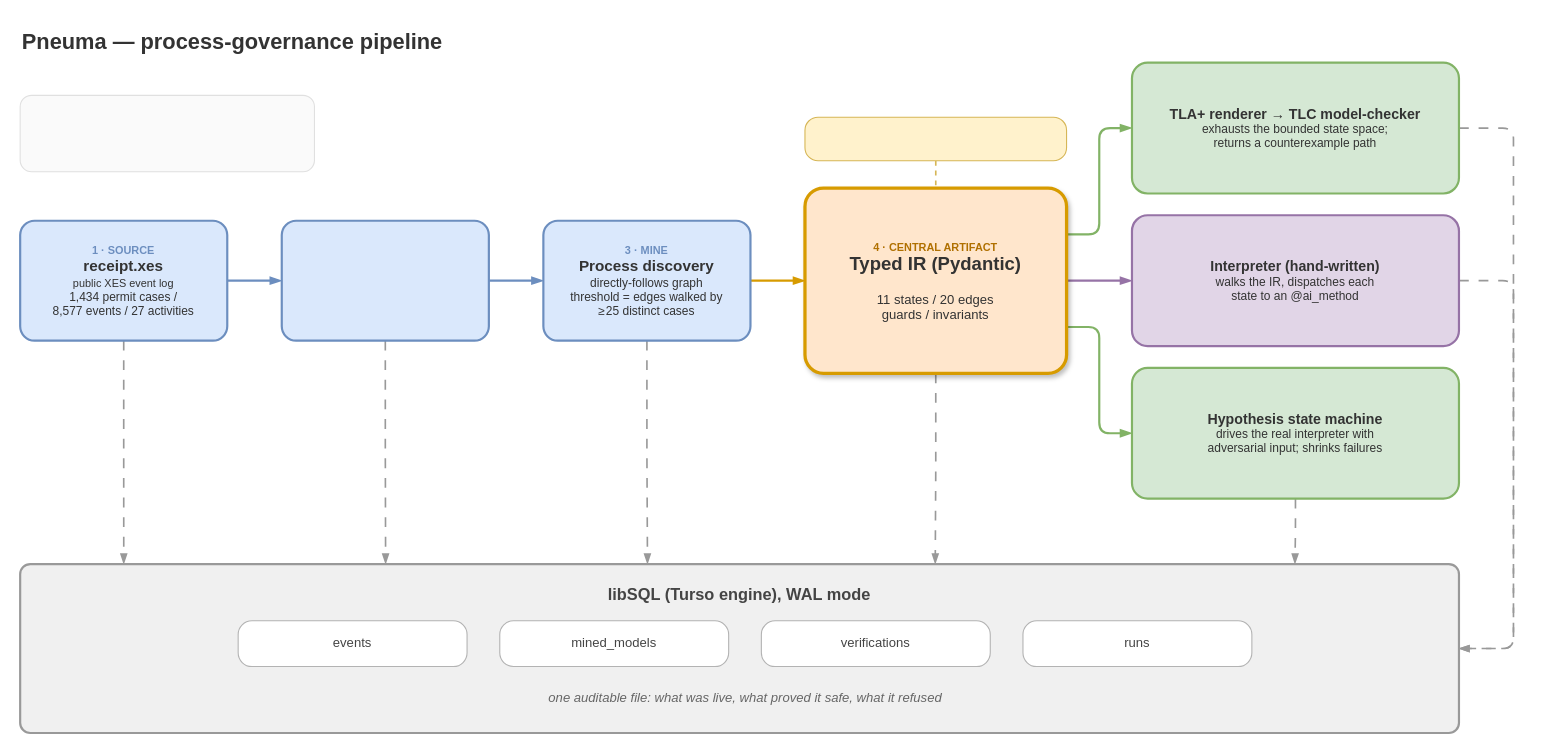
This 1541x752 diagram has some shape labels left out. Each missing label, with the centre of its shape:
"2 · PARSE Polars DataFrame one row per event, timestamps normalised to UTC" goes at point (384, 280).
"Legend ━━ data flow, stage to stage - - - persistence write into libSQL" goes at point (166, 133).
"The model emits DATA, never code." goes at point (935, 138).
